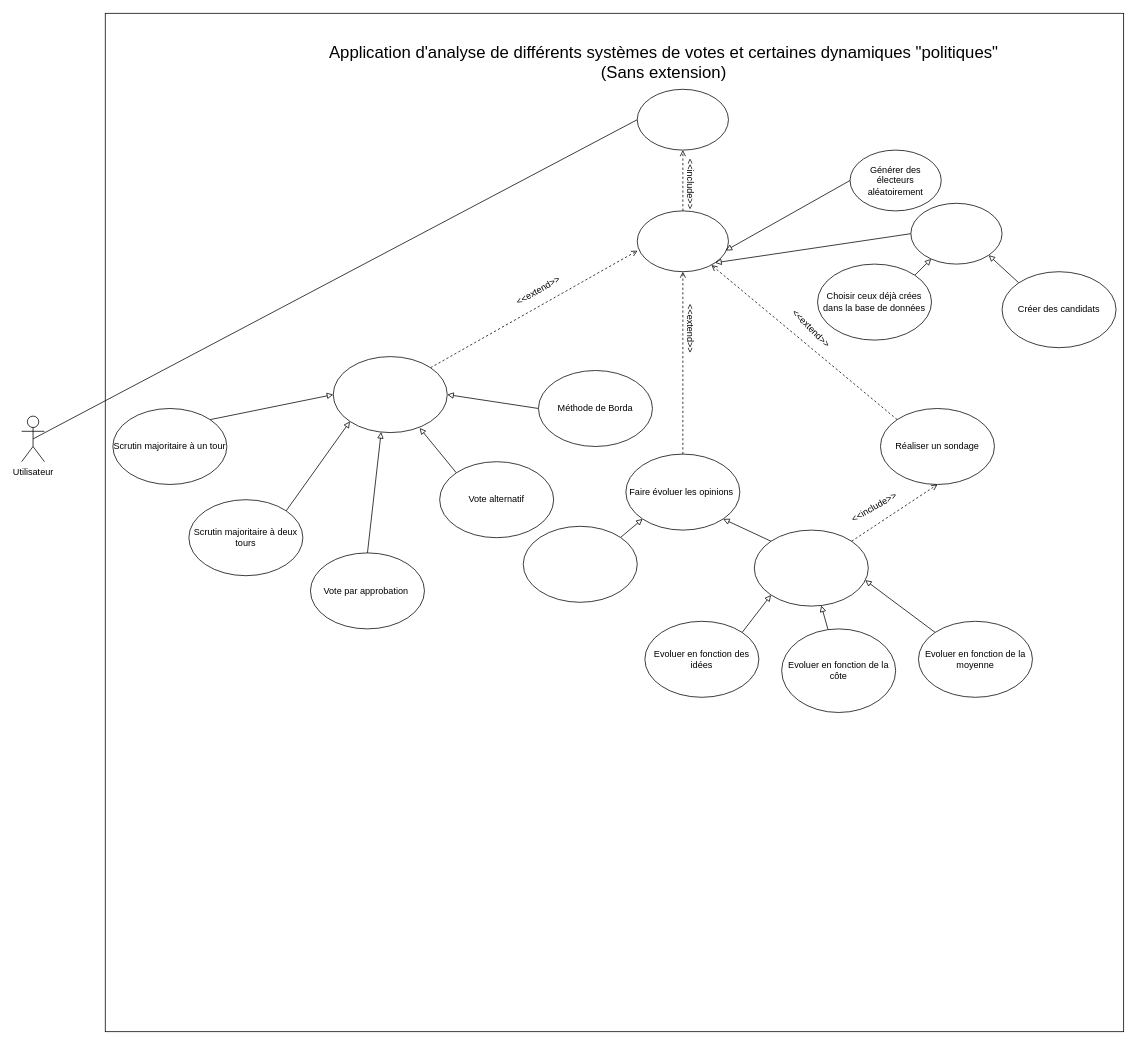
Some shapes in this 1137 by 1045 pixel diagram are drawn without their labels. Here are the shapes that lost their labels. From the top down, the centre of each, then its label:
At [682,119]: "Créer N axes".
At [682,241]: "Paramétrer les personnes".
At [956,233]: "Implémenter des candidats".
At [389,394]: "Simuler une élection".
At [579,564]: "Via un autre électeur aléatoire".
At [811,567]: "Via un sondage".
